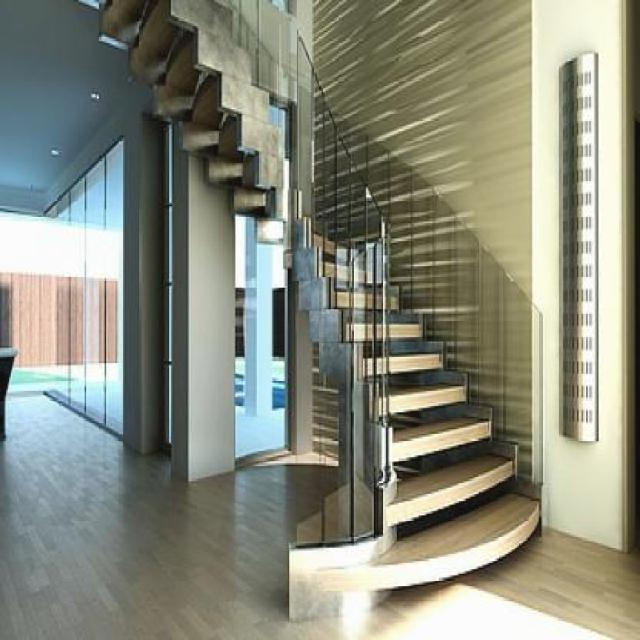stair: (282, 6, 548, 628)
